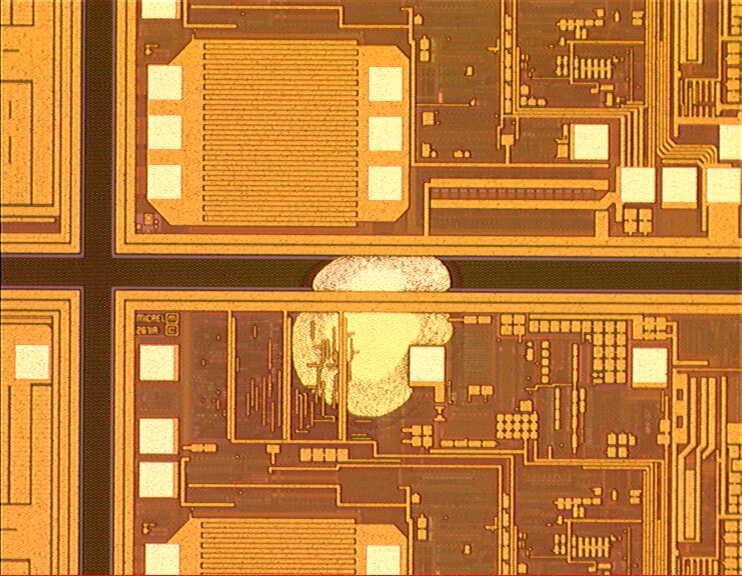BLOCK ETCH: (273, 226, 470, 428)
